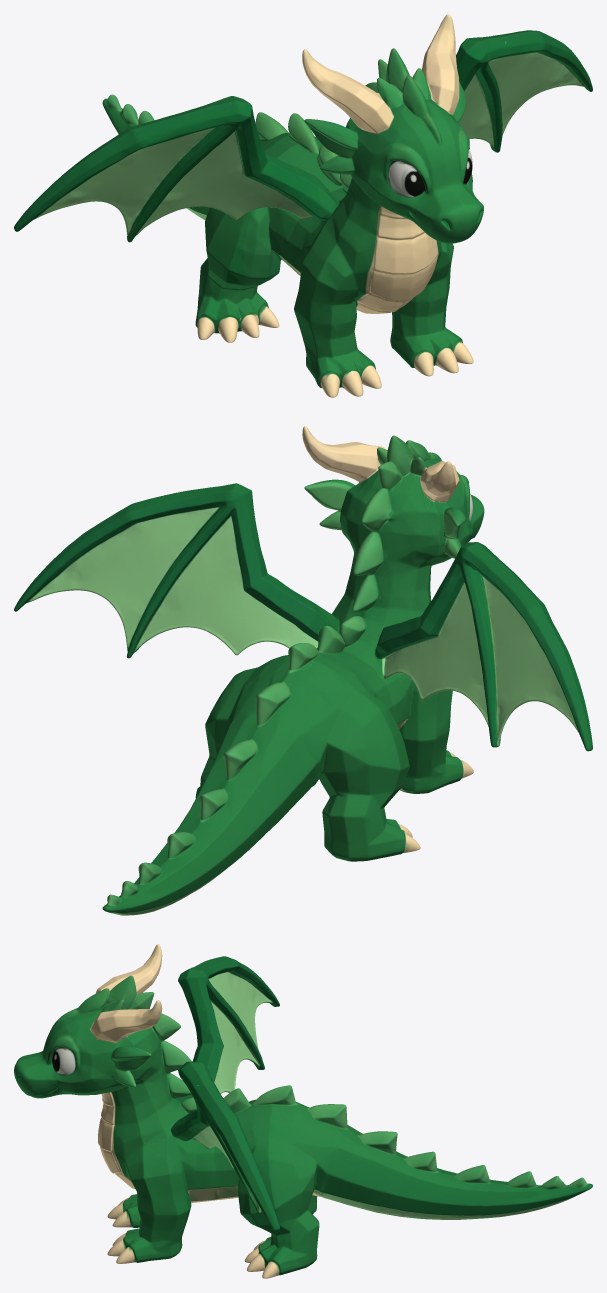
Rendered from dragon.glb.
The picture shows the model from 3 angles, top to bottom: view 1: azimuth 30°, elevation 25°; view 2: azimuth 150°, elevation 25°; view 3: azimuth 270°, elevation 25°; orthographic projection. The views are drawn at different scales.
Size of the model in its own units: 1.75 by 0.9558 by 1.9.
Materials: 1 (1 with a texture image).
